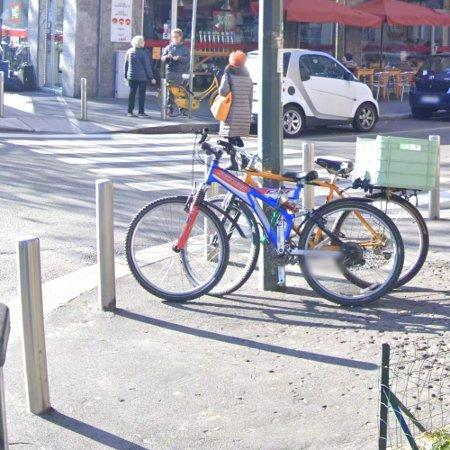bicycles: (127, 134, 405, 306), (236, 149, 430, 288), (209, 193, 268, 297)
